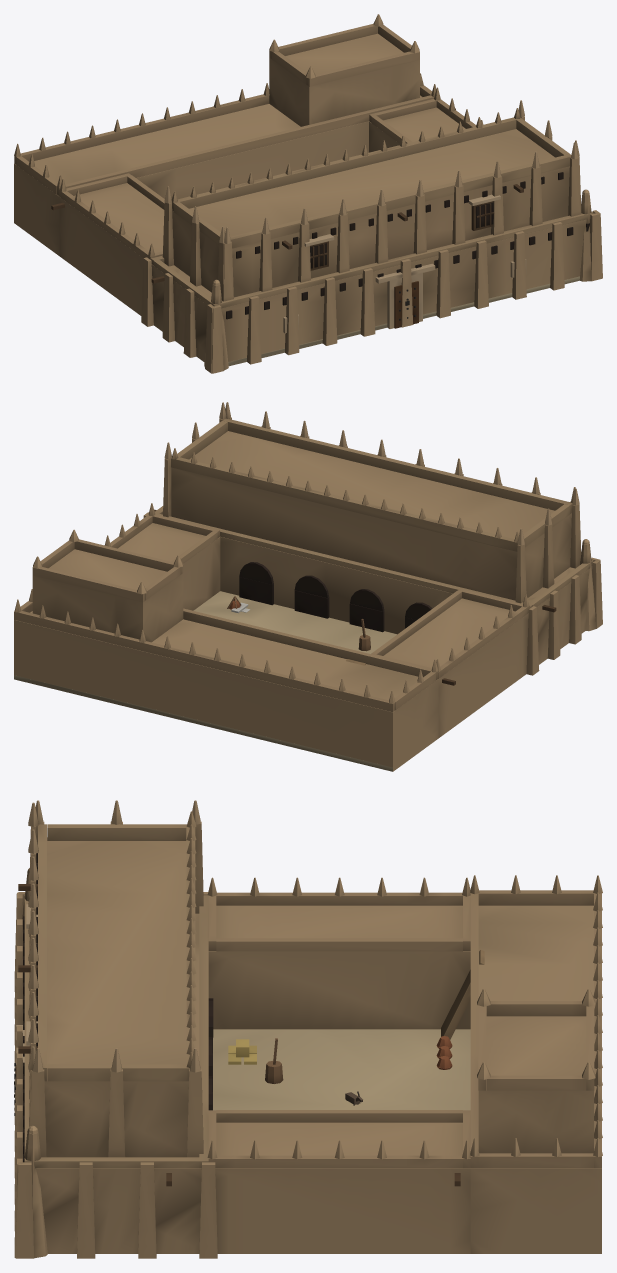
The model's file is merchant-house.glb.
3 renders of one model, top to bottom at view 1: azimuth 30°, elevation 25°; view 2: azimuth 150°, elevation 25°; view 3: azimuth 270°, elevation 25°, orthographic. The views are drawn at different scales.
Parts seen in each view (by area): view 1: p1_ground floor, p2_upper storey, p0_ground; view 2: p1_ground floor, p2_upper storey, p0_ground; view 3: p1_ground floor, p2_upper storey, p0_ground.
Boxes of the visible parts, x1,y1,x2,y2 form: p1_ground floor: [14, 73, 602, 373]; p2_upper storey: [51, 14, 581, 301]; p0_ground: [228, 276, 579, 365]; p1_ground floor: [14, 503, 602, 771]; p2_upper storey: [32, 402, 581, 685]; p0_ground: [14, 591, 396, 771]; p1_ground floor: [14, 868, 602, 1258]; p2_upper storey: [18, 800, 595, 1186]; p0_ground: [213, 1029, 470, 1110].
Size of the model in its own units: 25.5 by 8.26 by 22.46.
